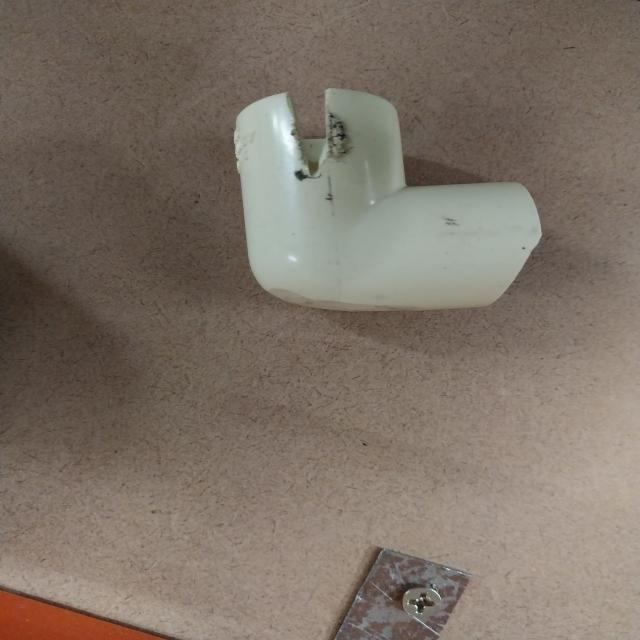L Joint: (231, 89, 548, 314)
